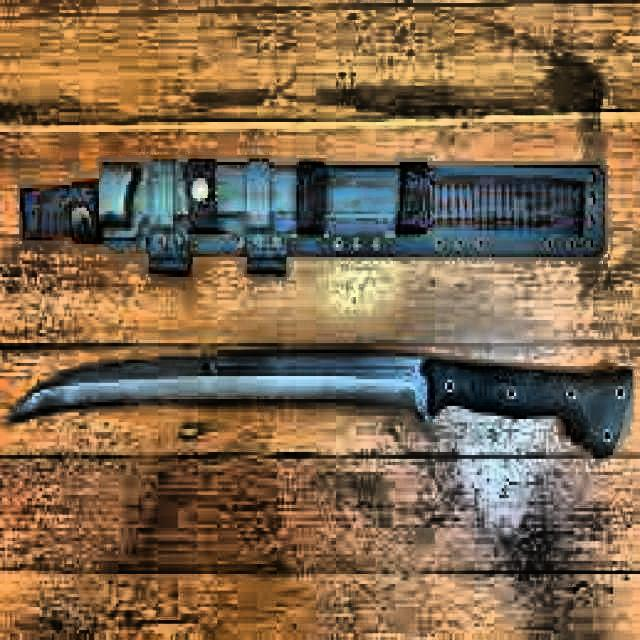knife: (7, 343, 640, 459)
